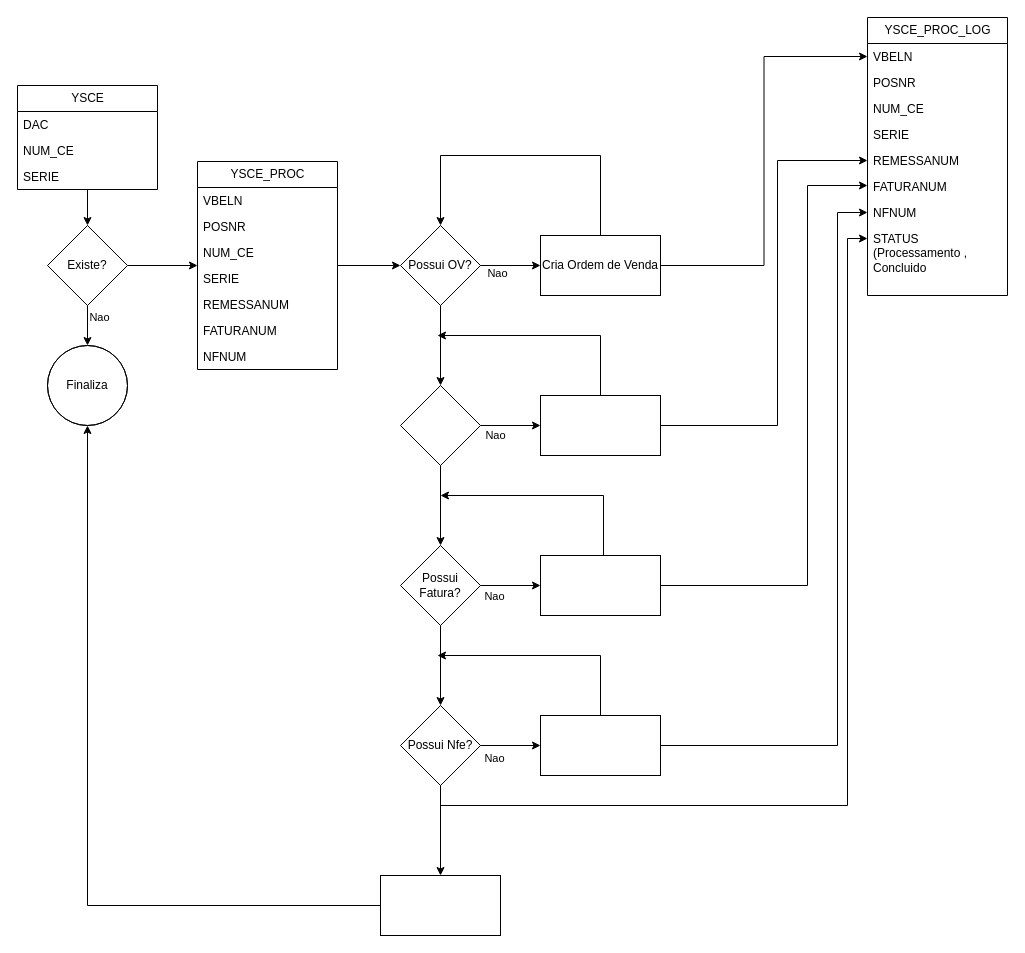
This 1025x953 diagram has some shape labels left out. The centre of each missing label's shape, as x and y in pixels:
Concluido: the point at 440,905
Cria Faturamento: the point at 600,585
Cria Nota Fiscal: the point at 600,745
Cria Remessa: the point at 600,425
Possui Remessa?: the point at 440,425
